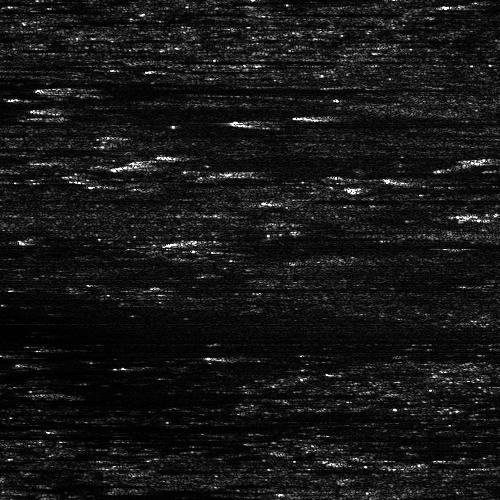object: (114, 232, 239, 249), (319, 179, 424, 194), (195, 117, 300, 126), (48, 84, 121, 93), (0, 102, 72, 111), (275, 194, 328, 203), (454, 210, 485, 221), (286, 112, 349, 117), (459, 152, 490, 161), (20, 391, 73, 396)
shadow: (177, 232, 500, 249), (0, 78, 330, 87), (85, 84, 345, 93), (248, 117, 466, 126), (372, 179, 488, 194), (30, 102, 222, 111), (302, 194, 416, 203), (318, 112, 423, 117), (0, 430, 47, 441), (47, 391, 121, 396), (470, 210, 500, 221), (475, 152, 500, 161)
